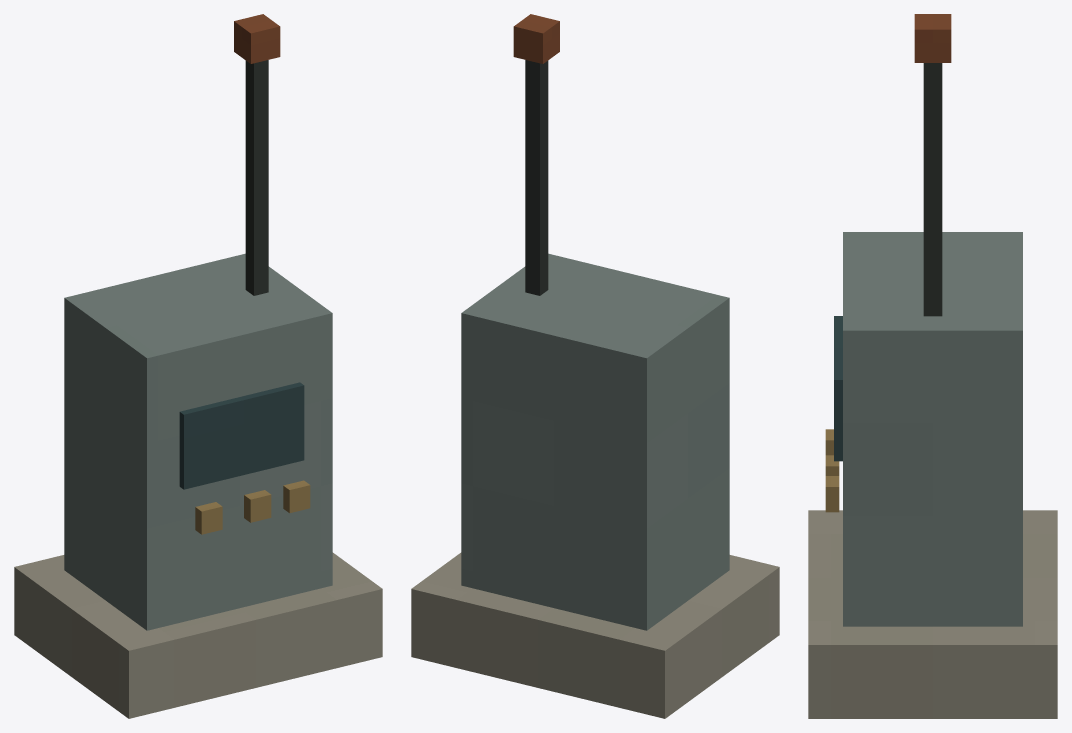
Rendered from relay.glb.
3 views of the same model, side by side, from view 1: azimuth 30°, elevation 25°; view 2: azimuth 150°, elevation 25°; view 3: azimuth 270°, elevation 25° (orthographic). The views are drawn at different scales.
Parts seen in each view (by area): view 1: Housing; view 2: Housing; view 3: Housing.
Part boxes in pixels (<box>): Housing: <box>14,14,382,718</box>; Housing: <box>411,14,779,718</box>; Housing: <box>808,14,1057,718</box>.
Size of the model in its own units: 0.78 by 1.78 by 0.61.
6 materials, 6 textured.
